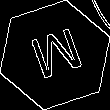M_S: (24, 24, 86, 86)
